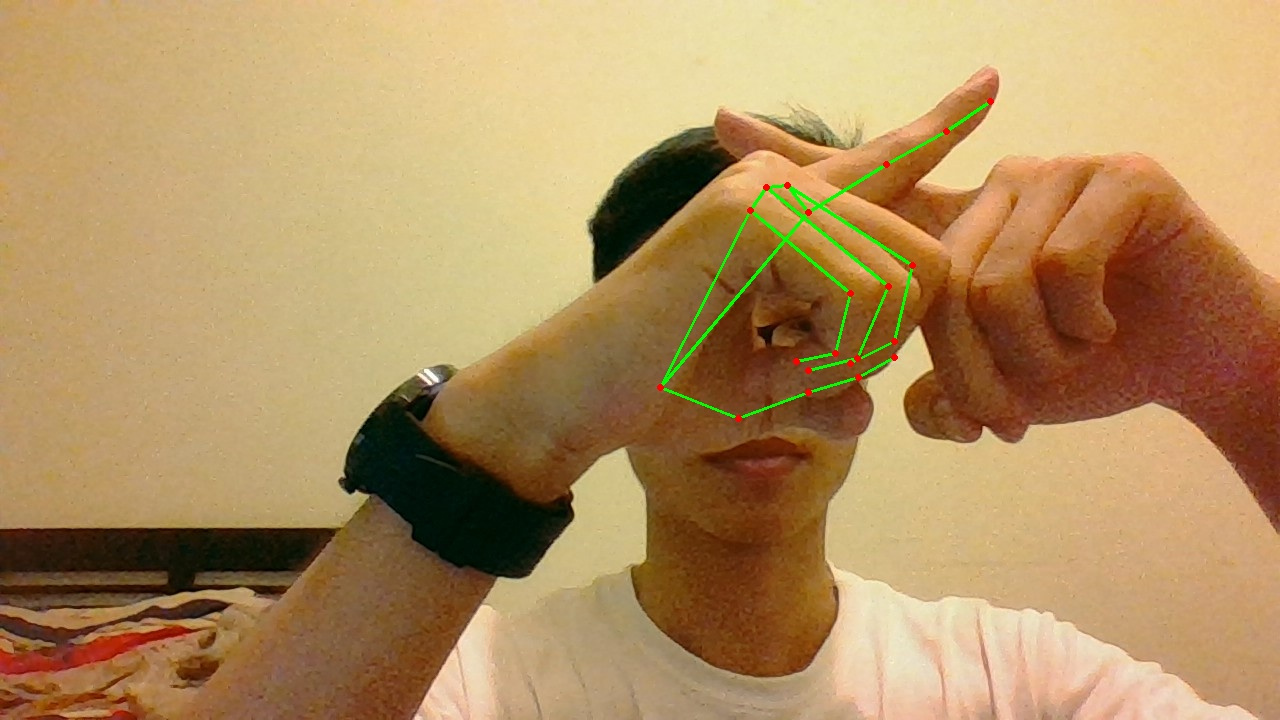No: (597, 63, 1179, 427)
